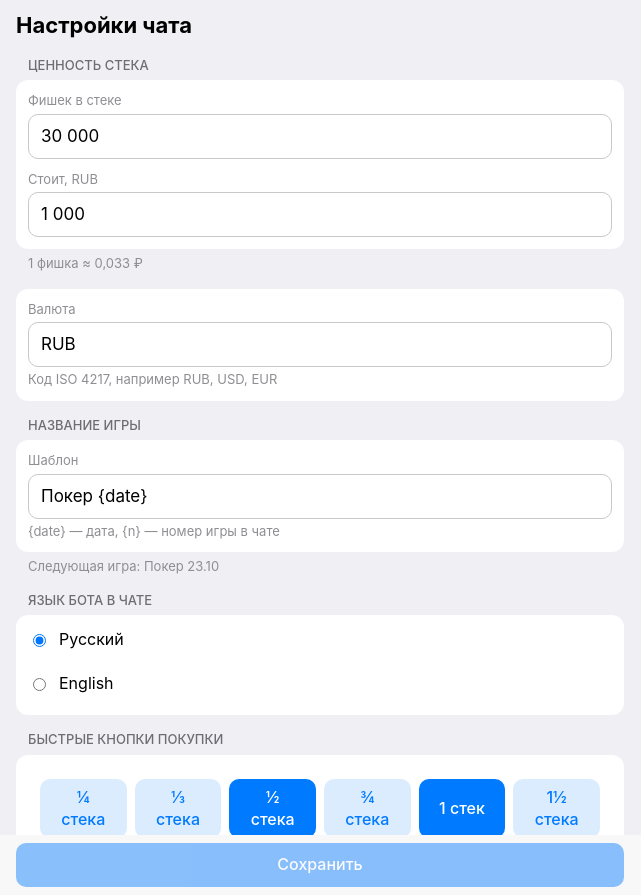
it: ChatSettingsPage › validates the fields
The width and height of the screenshot is (641, 895).
Clear the field labelled "Валюта" at (320, 345), box left=28, top=322, right=612, bottom=367
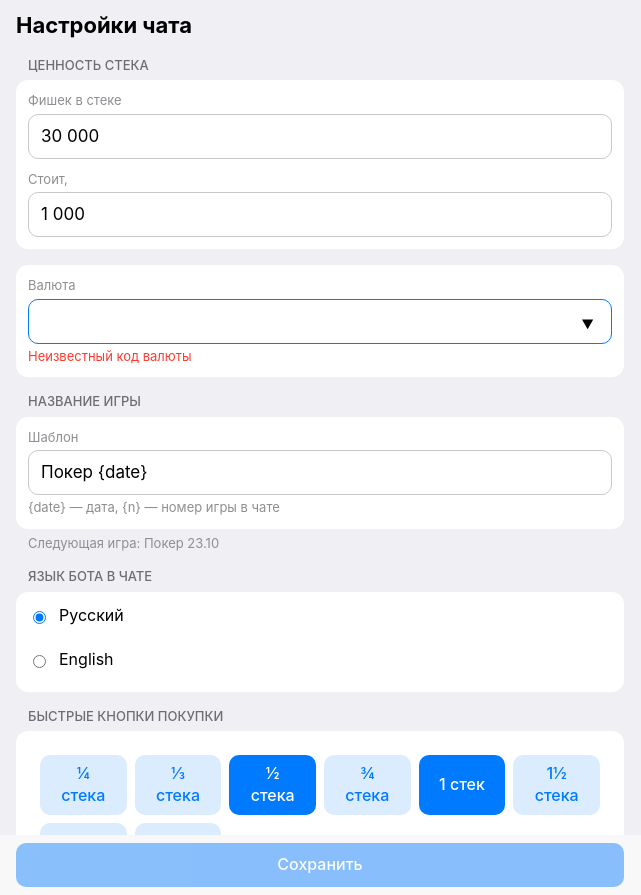
Type "xxq" into the field labelled "Валюта" at (320, 321), box left=28, top=299, right=612, bottom=344
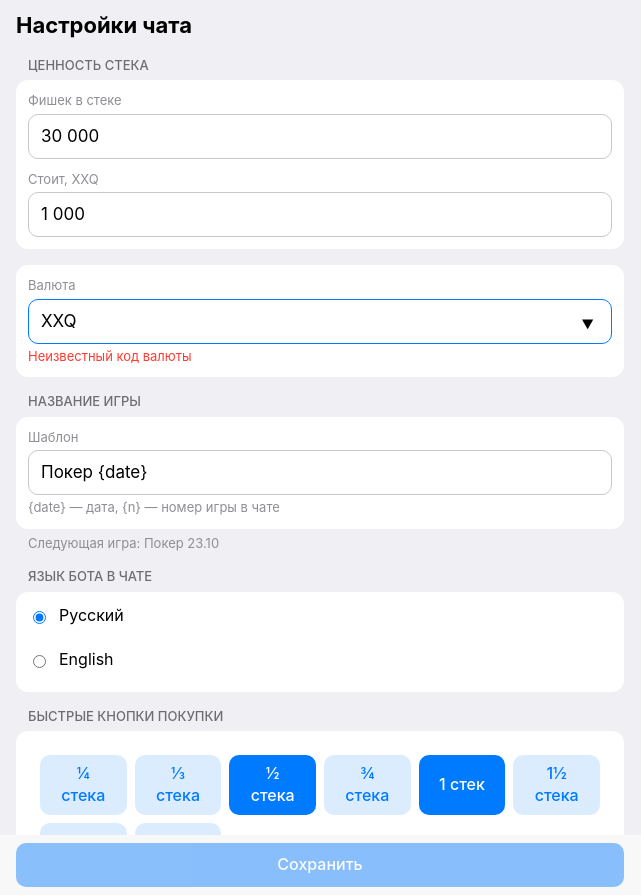
Expected: the button "Сохранить" is disabled, left=16, top=843, right=624, bottom=887
Result: the text "Неизвестный код валюты" is shown at left=28, top=348, right=192, bottom=364
Replace the text in the field labelled "Валюта" with "usd" at (320, 321), box left=28, top=299, right=612, bottom=344
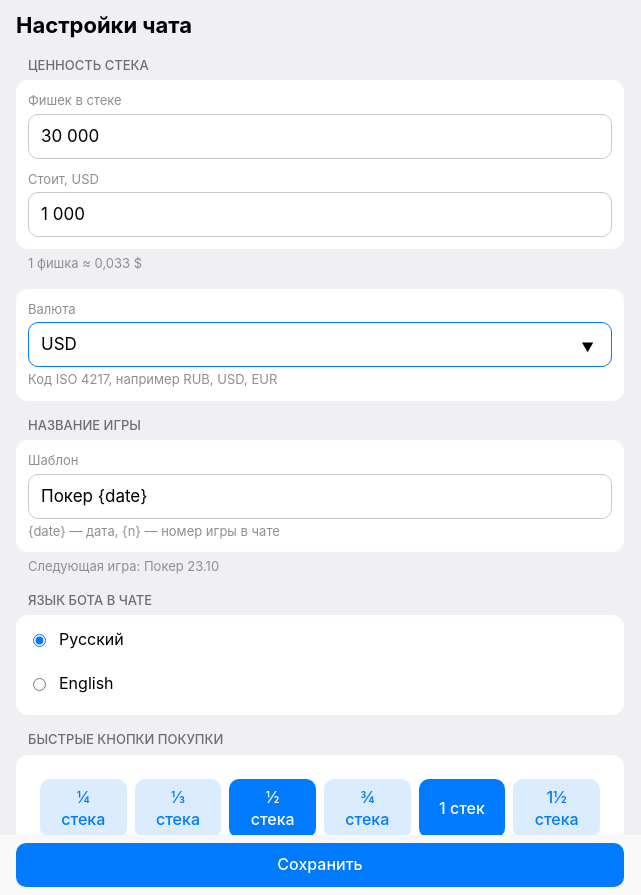
Result: the button "Сохранить" is enabled at left=16, top=843, right=624, bottom=887
Clear the field labelled "Фишек в стеке" at (320, 136), box left=28, top=114, right=612, bottom=159
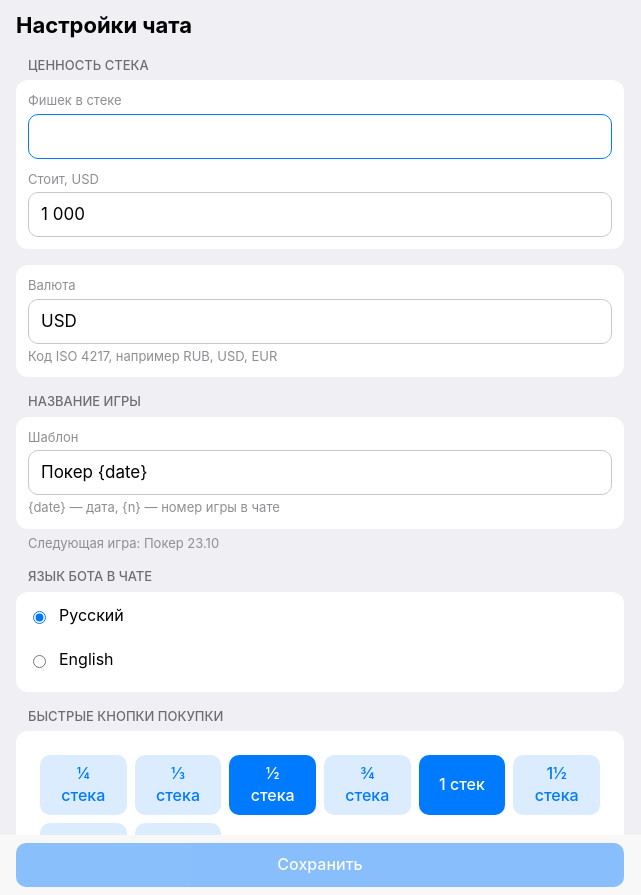
Result: the button "Сохранить" is disabled at left=16, top=843, right=624, bottom=887
